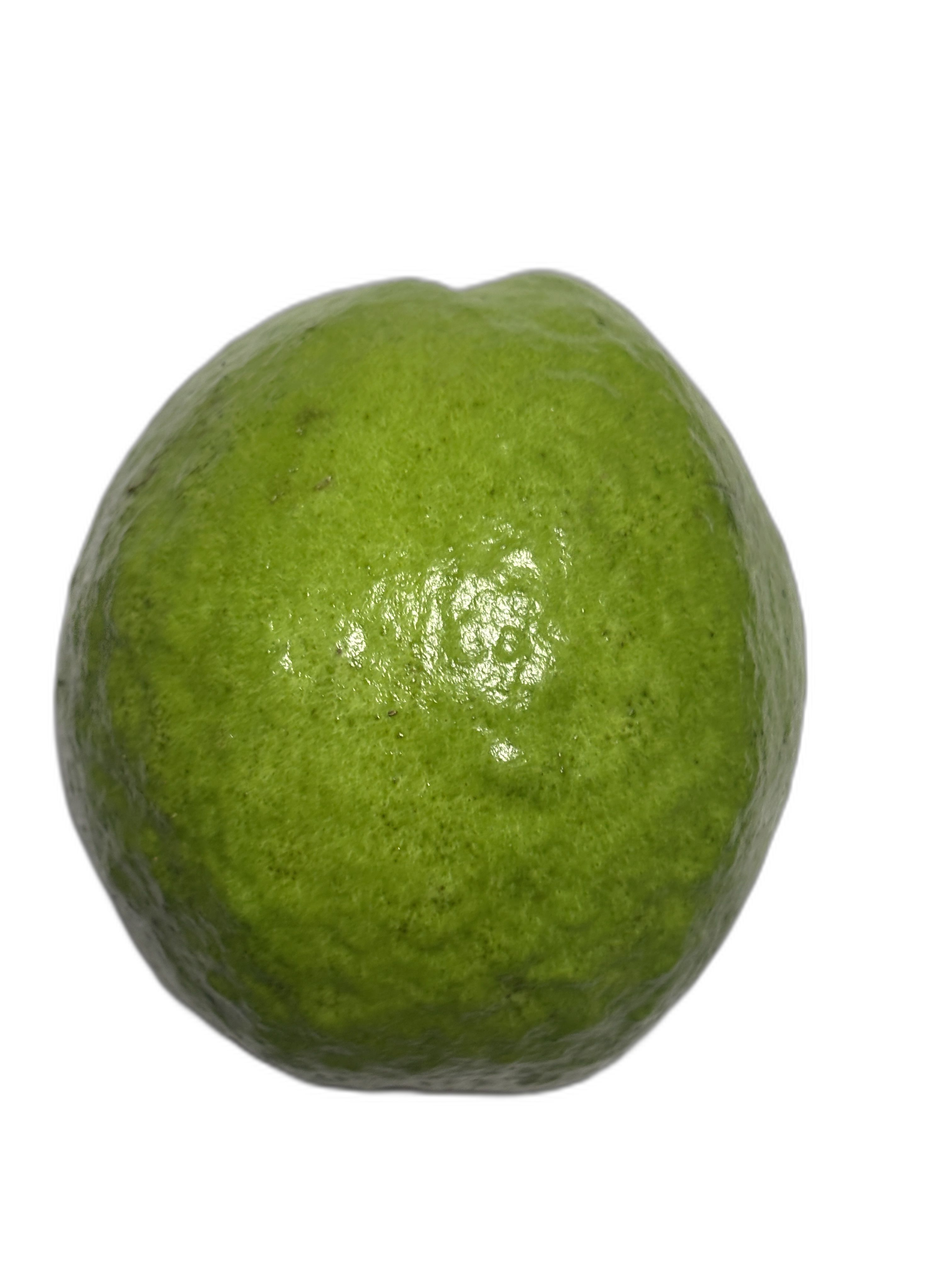guava: (11, 247, 761, 1170)
